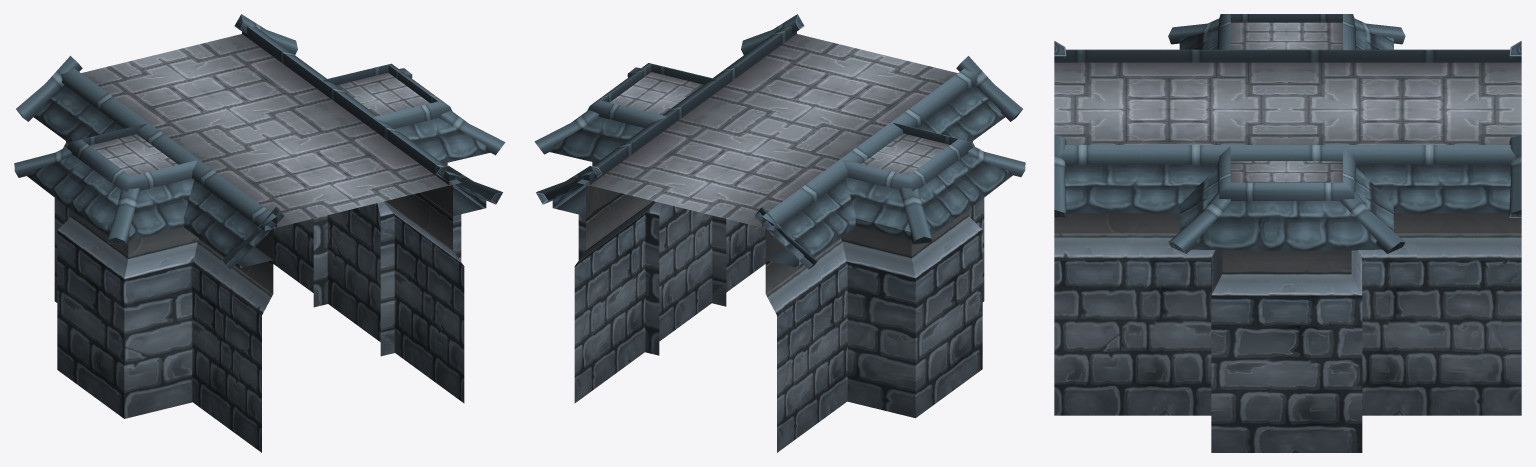
File: castle_wall_straight_02.fbx
3 renders of one model, left to right at view 1: azimuth 30°, elevation 25°; view 2: azimuth 150°, elevation 25°; view 3: azimuth 270°, elevation 25°, orthographic. The views are drawn at different scales.
Parts seen in each view (by area): view 1: castle_wall_straight_02; view 2: castle_wall_straight_02; view 3: castle_wall_straight_02.
Boxes of the visible parts, box(x1,y1,x2,y2) form: castle_wall_straight_02: box(14, 14, 505, 452); castle_wall_straight_02: box(534, 14, 1025, 452); castle_wall_straight_02: box(1054, 14, 1521, 452).
Size of the model in its own units: 7.32 by 4.26 by 6.61.
1 material, 1 textured.
